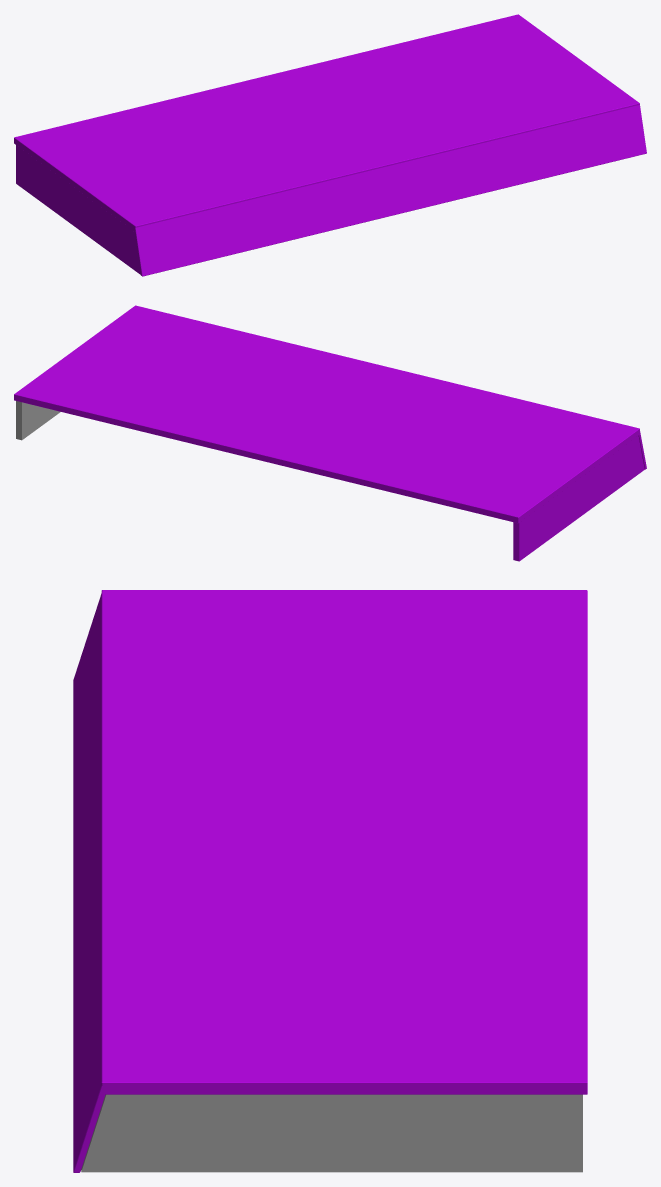
Rendered from Podium_Floor_Lod0.fbx.
3 renders of one model, top to bottom at view 1: azimuth 30°, elevation 25°; view 2: azimuth 150°, elevation 25°; view 3: azimuth 270°, elevation 25°, orthographic. The views are drawn at different scales.
Parts seen in each view (by area): view 1: Podium_Floor_Lod0; view 2: Podium_Floor_Lod0; view 3: Podium_Floor_Lod0.
Part boxes in pixels (bbox=[...]): Podium_Floor_Lod0: bbox=[14, 14, 646, 276]; Podium_Floor_Lod0: bbox=[14, 305, 646, 561]; Podium_Floor_Lod0: bbox=[73, 590, 587, 1172].
Size of the model in its own units: 1748 by 150 by 771.
